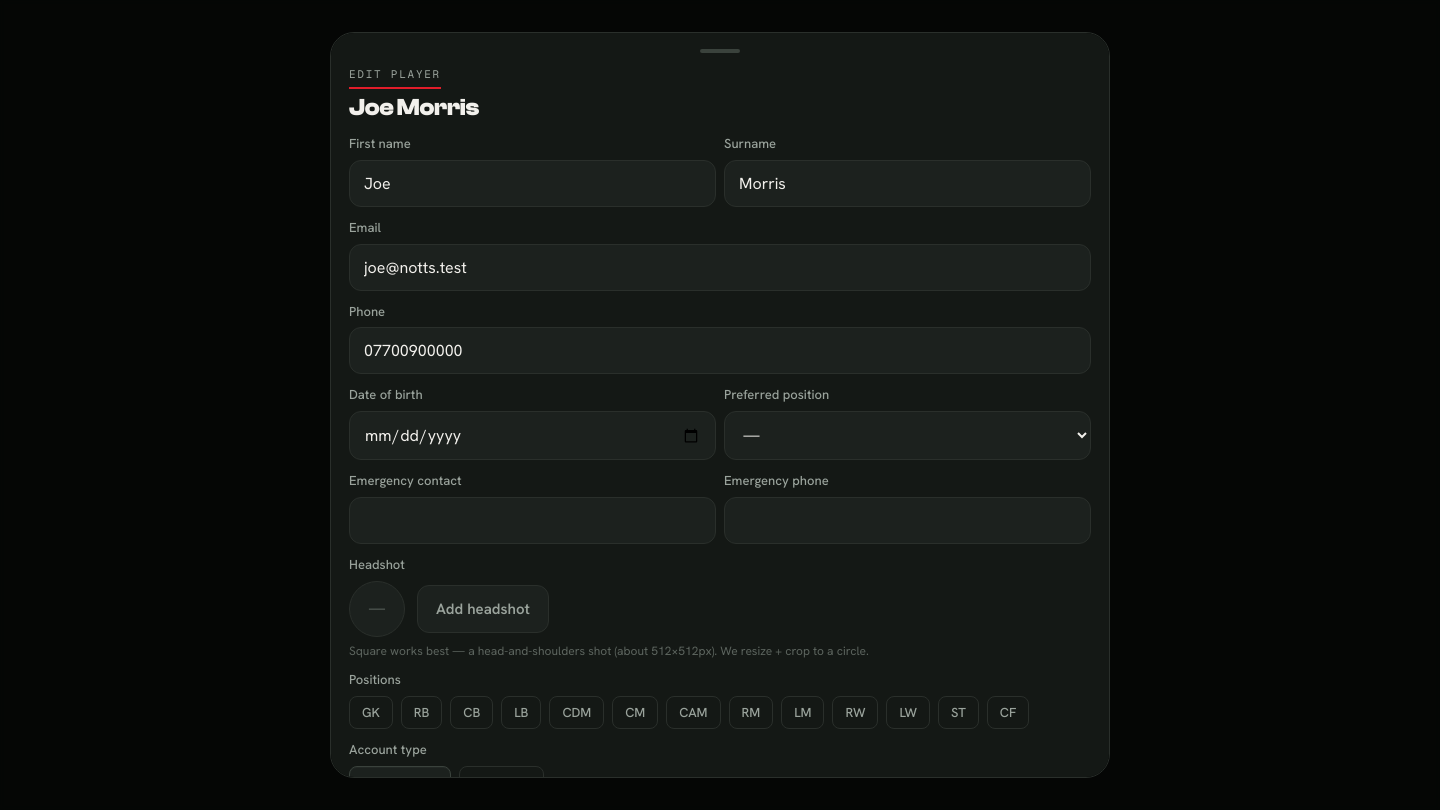
Test: PlayerForm › NEGATIVE: clearing a required field blocks save, pops an error and flags the field
Clear the field showing "joe@notts.test" below "Email": coordinates (720, 267) [349,244,1091,291]
(page scrolled)
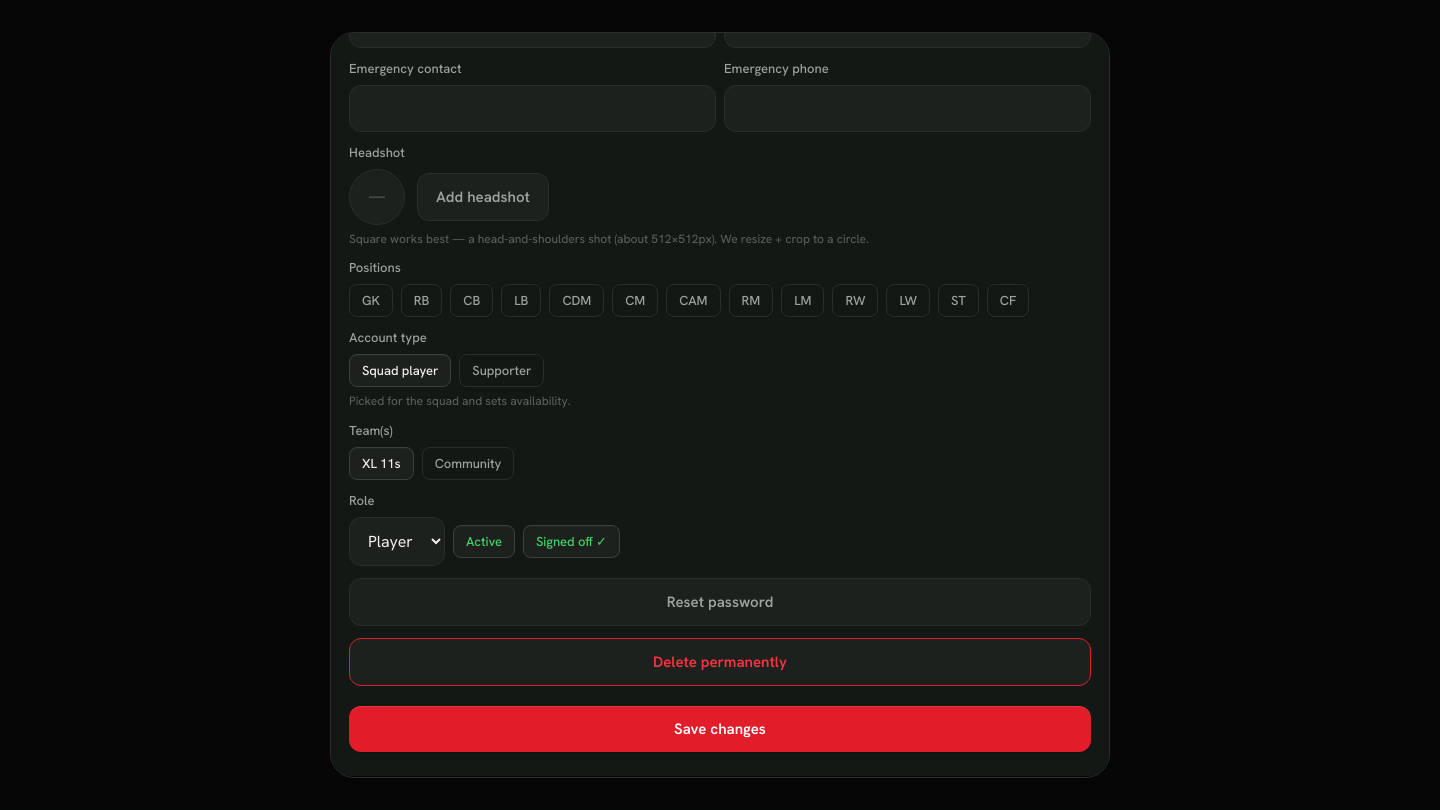
Click the button "Save changes": coordinates (720, 729) [349,706,1091,752]
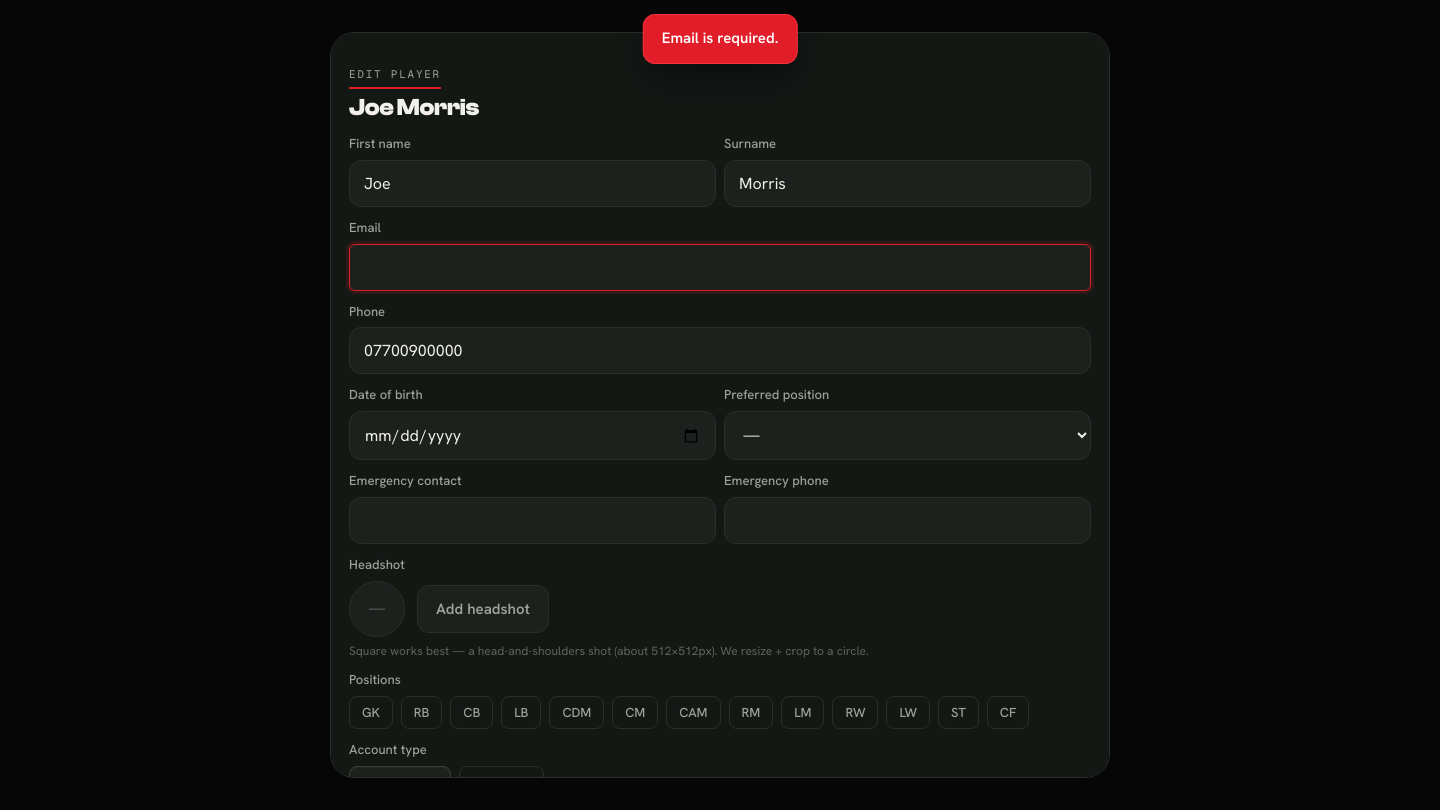
Expected: the message shows "Email", [662,28,778,48]
